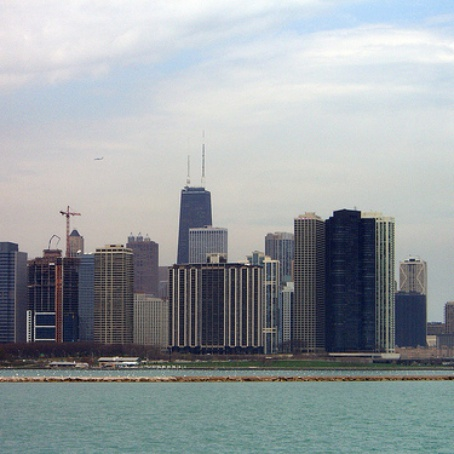building: (168, 261, 268, 352), (322, 206, 362, 354), (127, 237, 174, 347), (289, 211, 323, 354), (29, 251, 75, 344), (97, 242, 135, 349), (179, 185, 226, 268), (370, 215, 397, 355), (401, 260, 431, 349), (1, 240, 24, 347), (75, 247, 95, 346)
crane: (49, 204, 86, 250)
sea: (1, 372, 446, 454)
sky: (4, 1, 454, 228)
